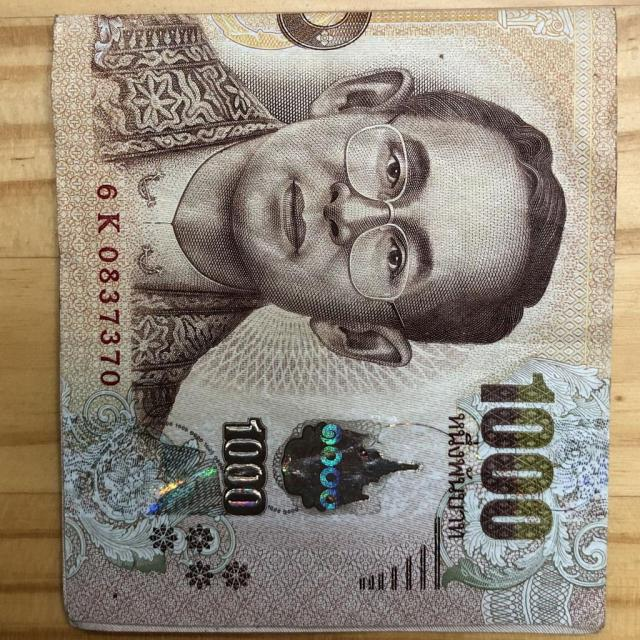THAI1000: (52, 8, 616, 633)
